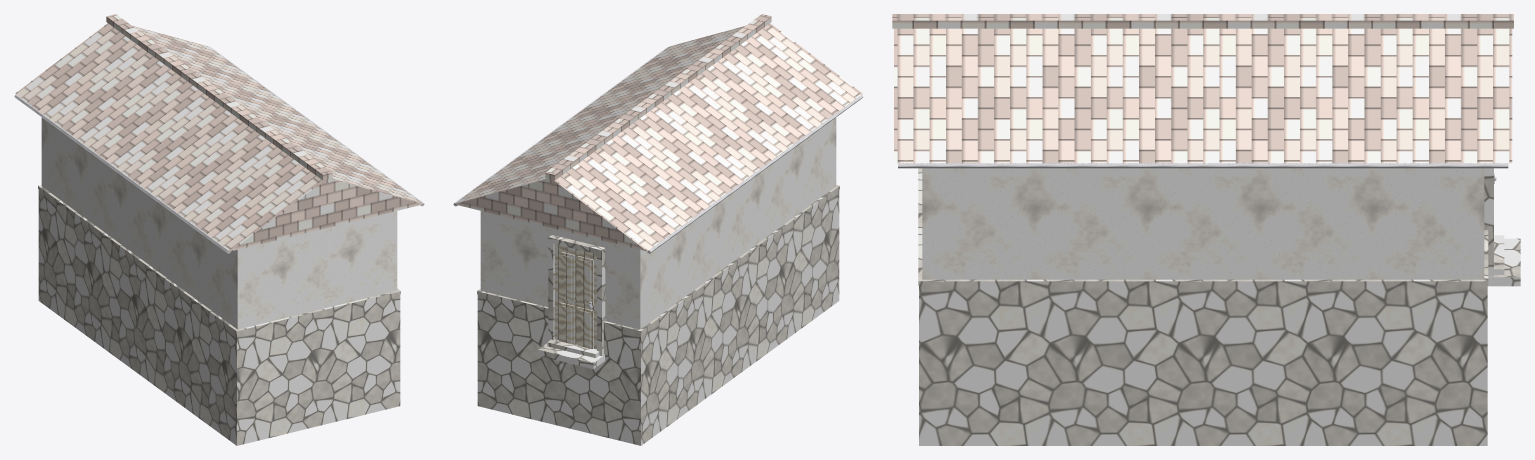
The picture shows the model from 3 angles, left to right: view 1: azimuth 30°, elevation 25°; view 2: azimuth 150°, elevation 25°; view 3: azimuth 270°, elevation 25°; orthographic projection. The views are drawn at different scales.
Visible parts, largest first — view 1: b1088806796; view 2: b1088806796; view 3: b1088806796.
Part boxes in pixels (bbox=[...]): b1088806796: bbox=[14, 14, 424, 445]; b1088806796: bbox=[453, 14, 863, 445]; b1088806796: bbox=[892, 14, 1520, 445].
Size of the model in its own units: 4.06 by 5.09 by 7.8.
Materials: 11 (11 with a texture image).
